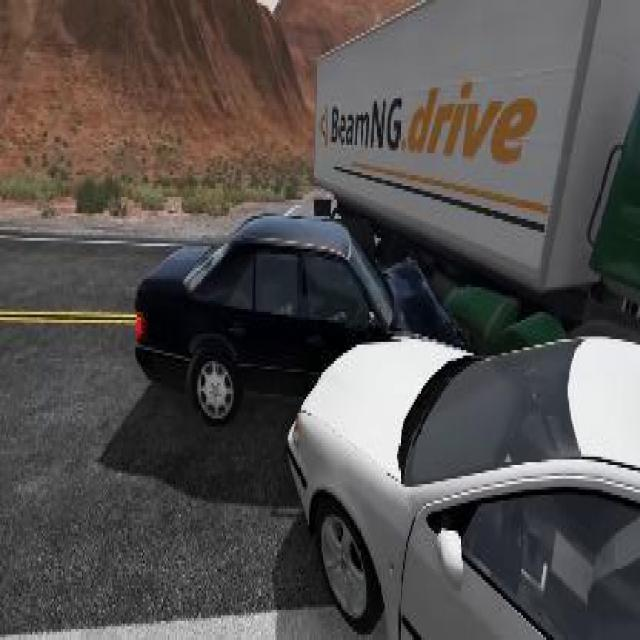accident: (124, 204, 638, 638), (118, 0, 639, 421)
